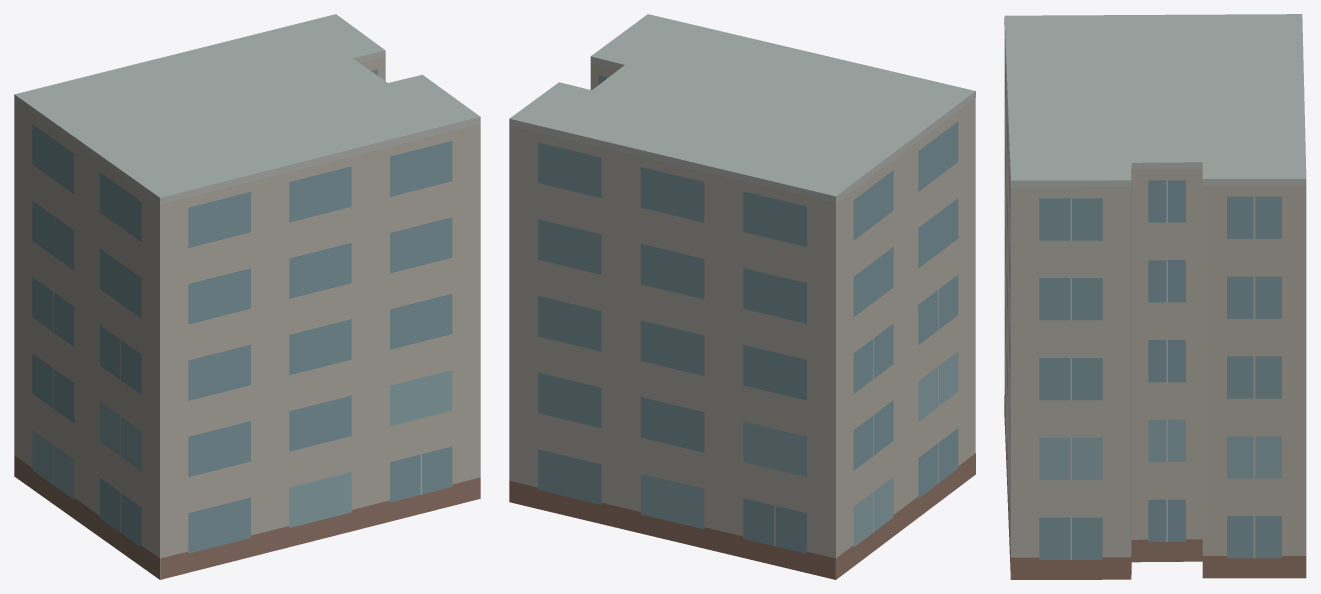
The model's file is survey-upis-32520482.glb.
3 views of the same model, side by side, from view 1: azimuth 30°, elevation 25°; view 2: azimuth 150°, elevation 25°; view 3: azimuth 270°, elevation 25° (orthographic). The views are drawn at different scales.
Visible parts, largest first — view 1: survey-upis-32520482.tmp; view 2: survey-upis-32520482.tmp; view 3: survey-upis-32520482.tmp.
Boxes of the visible parts, left/top/right/bottom form: survey-upis-32520482.tmp: left=14, top=14, right=480, bottom=579; survey-upis-32520482.tmp: left=509, top=14, right=975, bottom=579; survey-upis-32520482.tmp: left=1004, top=14, right=1306, bottom=579.
Bounding box in the file's own units: 12.5 × 13.95 × 9.57.
